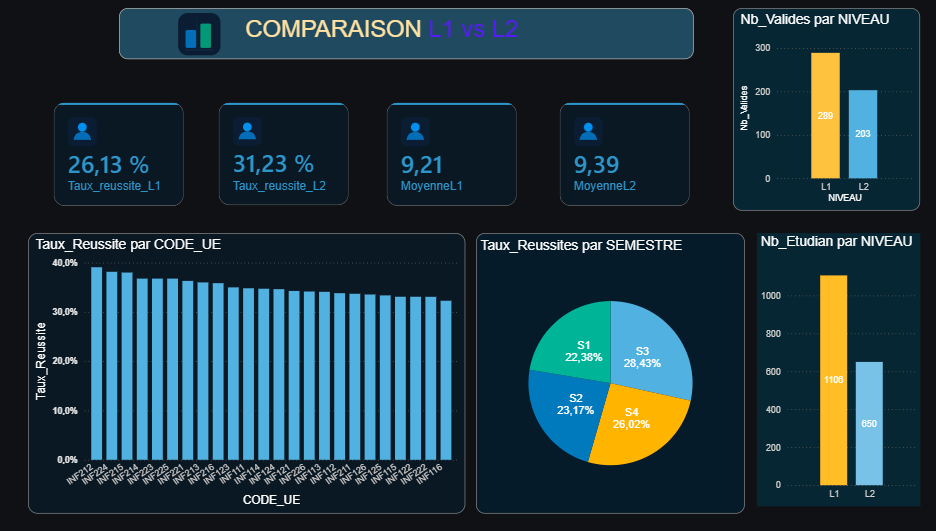

The dashboard page shown, as its layout file describes it:
{"tool":"powerbi","page":{"name":"Page 2","canvas":[1280,738],"ordinal":1},"visuals":[{"type":"pieChart","fields":{"Y":["FAITS_NOTES_2.Taux_Reussites"],"Category":["DIM_SEMESTRE.SEMESTRE"]},"box":[654.5,325.9,362.3,378.4],"z":0},{"type":"textbox","box":[173.7,22.9,774.4,68.7],"z":1000},{"type":"image","box":[238.4,29.6,87.5,56.6],"z":2000},{"type":"cardVisual","fields":{"Data":["FAITS_NOTES_2.Taux_reussite_L2"]},"box":[303,145.4,185.8,148.1],"z":3000},{"type":"clusteredColumnChart","fields":{"Y":["FAITS_NOTES.Taux_Reussite"],"Category":["DIM_MATIERE.CODE_UE"]},"box":[51.2,325.9,588.5,378.4],"z":4000},{"type":"clusteredColumnChart","fields":{"Category":["DIM_NIVEAU.NIVEAU"],"Y":["FAITS_NOTES_2.Nb_Etudian"]},"box":[1032.9,325.9,219.5,367.7],"z":5000},{"type":"cardVisual","fields":{"Data":["FAITS_NOTES_2.Taux_reussite_L1"]},"box":[80.8,145.4,185.8,149.5],"z":6000},{"type":"cardVisual","fields":{"Data":["FAITS_NOTES.MoyenneL1"]},"box":[529.3,145.4,185.8,149.5],"z":7000},{"type":"cardVisual","fields":{"Data":["FAITS_NOTES.MoyenneL2"]},"box":[762.2,145.4,185.8,149.5],"z":8000},{"type":"clusteredColumnChart","fields":{"Y":["FAITS_NOTES_2.Nb_Valides"],"Category":["DIM_NIVEAU.NIVEAU"]},"box":[1000.6,22.9,251.8,273.4],"z":9000}]}

Visuals, with their boxes in screenshot pixels (x1, y1, x2, y2), scaled from the page's 1280x738 canvas onto the 936x531 screenshot:
pieChart - FAITS_NOTES_2.Taux_Reussites x DIM_SEMESTRE.SEMESTRE: [479, 234, 744, 507]
textbox: [127, 16, 693, 66]
image: [174, 21, 238, 62]
cardVisual - FAITS_NOTES_2.Taux_reussite_L2: [222, 105, 357, 211]
clusteredColumnChart - FAITS_NOTES.Taux_Reussite x DIM_MATIERE.CODE_UE: [37, 234, 468, 507]
clusteredColumnChart - DIM_NIVEAU.NIVEAU x FAITS_NOTES_2.Nb_Etudian: [755, 234, 916, 499]
cardVisual - FAITS_NOTES_2.Taux_reussite_L1: [59, 105, 195, 212]
cardVisual - FAITS_NOTES.MoyenneL1: [387, 105, 523, 212]
cardVisual - FAITS_NOTES.MoyenneL2: [557, 105, 693, 212]
clusteredColumnChart - FAITS_NOTES_2.Nb_Valides x DIM_NIVEAU.NIVEAU: [732, 16, 916, 213]
